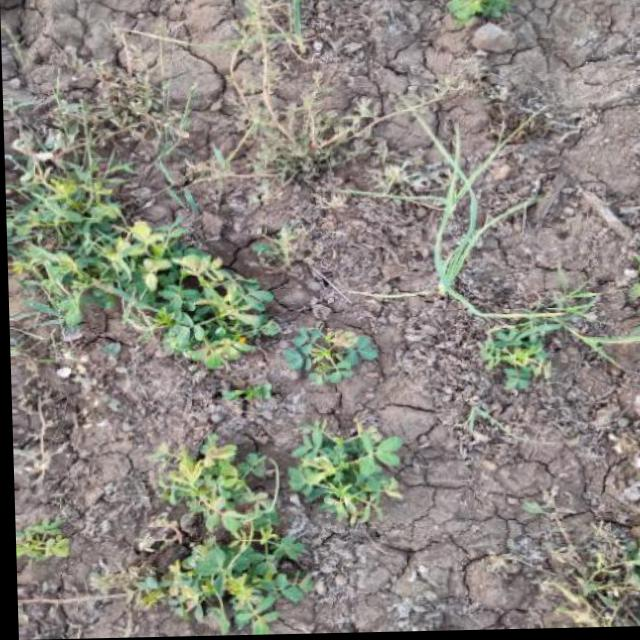weed: (42, 144, 363, 390), (398, 115, 594, 478), (110, 413, 405, 626)
